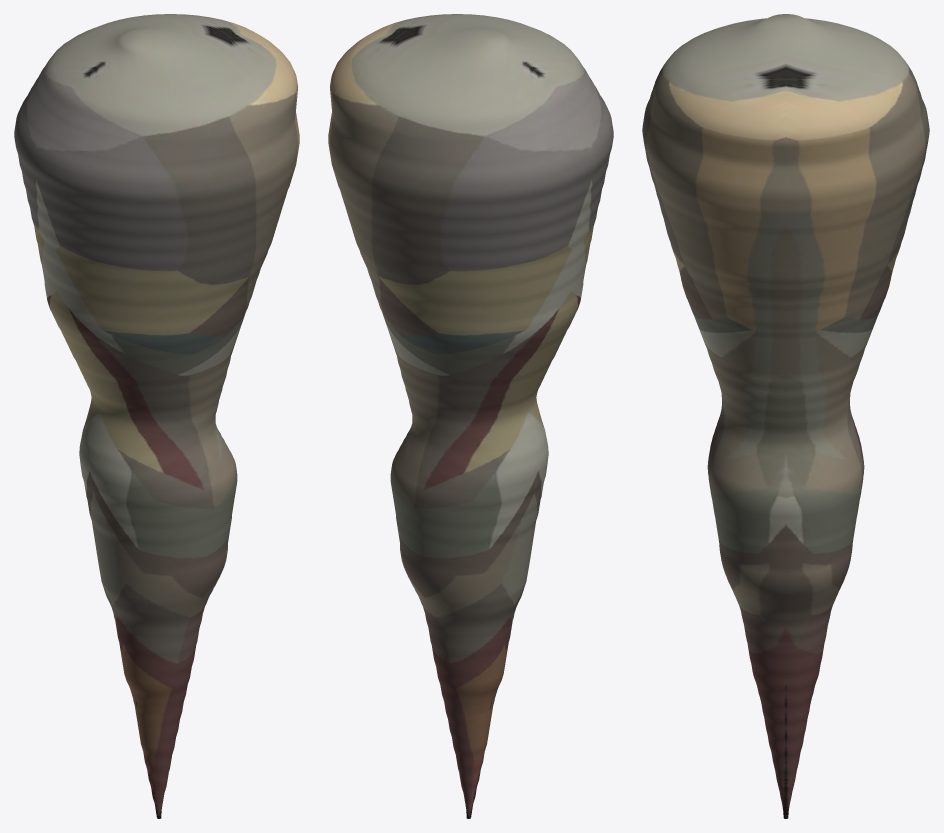
The model's file is olive_spire.glb.
The picture shows the model from 3 angles, left to right: view 1: azimuth 30°, elevation 25°; view 2: azimuth 150°, elevation 25°; view 3: azimuth 270°, elevation 25°; orthographic projection.
Parts seen in each view (by area): view 1: olive_spire; view 2: olive_spire; view 3: olive_spire.
Part boxes in pixels (<box>): olive_spire: <box>14,14,299,818</box>; olive_spire: <box>328,14,613,818</box>; olive_spire: <box>642,14,929,818</box>.
Bounding box in the file's own units: 0.9922 × 3.01 × 0.9922.
1 material, 1 textured.
